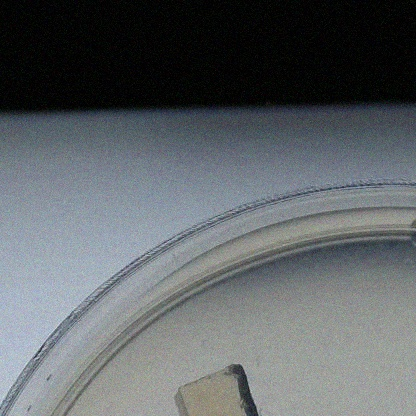worm: (194, 337, 219, 352), (249, 353, 269, 368)
